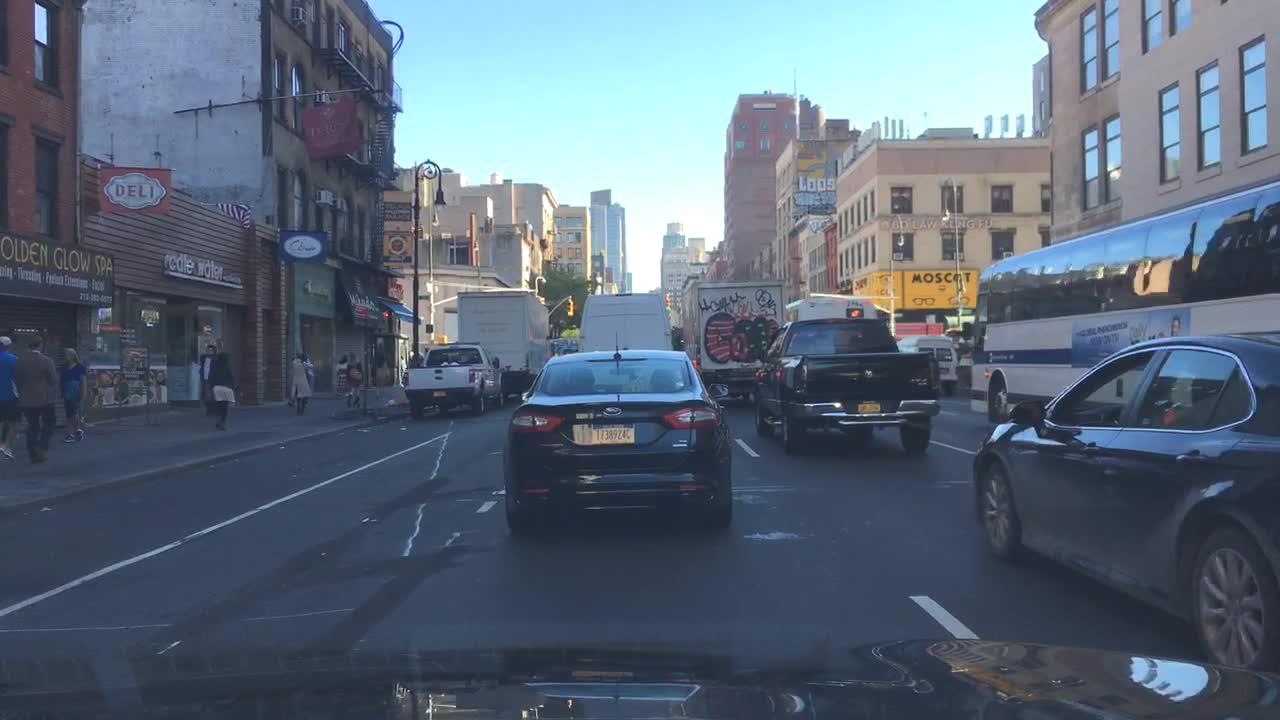ford: (601, 405, 625, 418)
ram: (862, 364, 878, 386)
